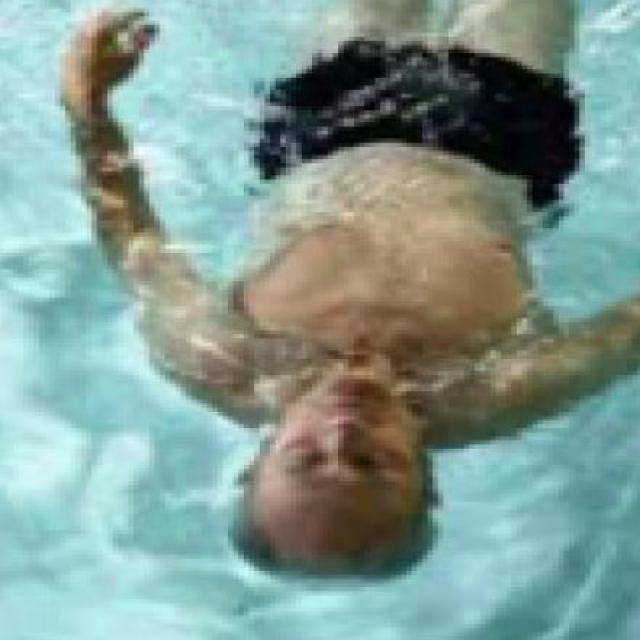Swimming: (57, 4, 640, 585)
